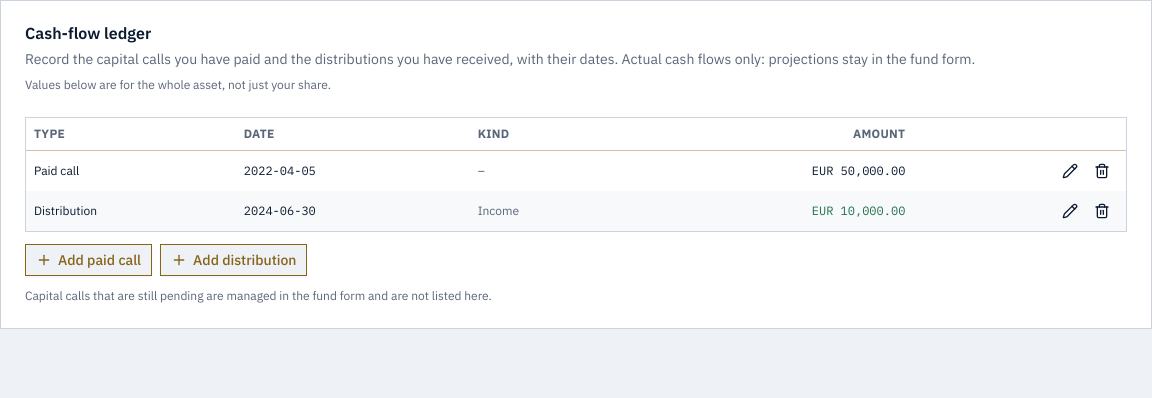
Test: PrivateEquityLedgerEditor › explains that a co-owner must approve when the edit is staged, and does not refresh
Expected: the text "Values below are for the whole asset, not just your share." is shown, 25,77 -> 331,92
Click the button named "Remove the Distribution dated 2024-06-30".
click(1102, 210)  # box 1086,194 -> 1118,226
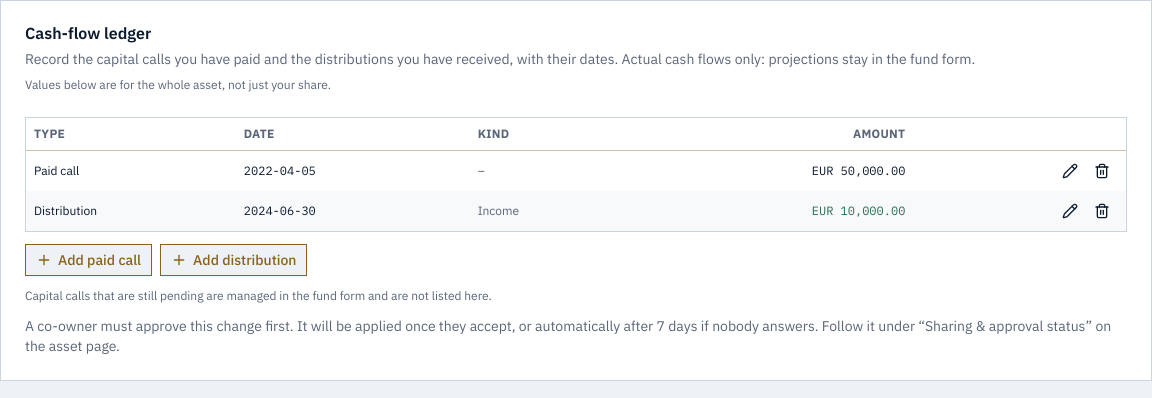
Expected: the message shows "co-owner must approve", 25,316 -> 1111,354
